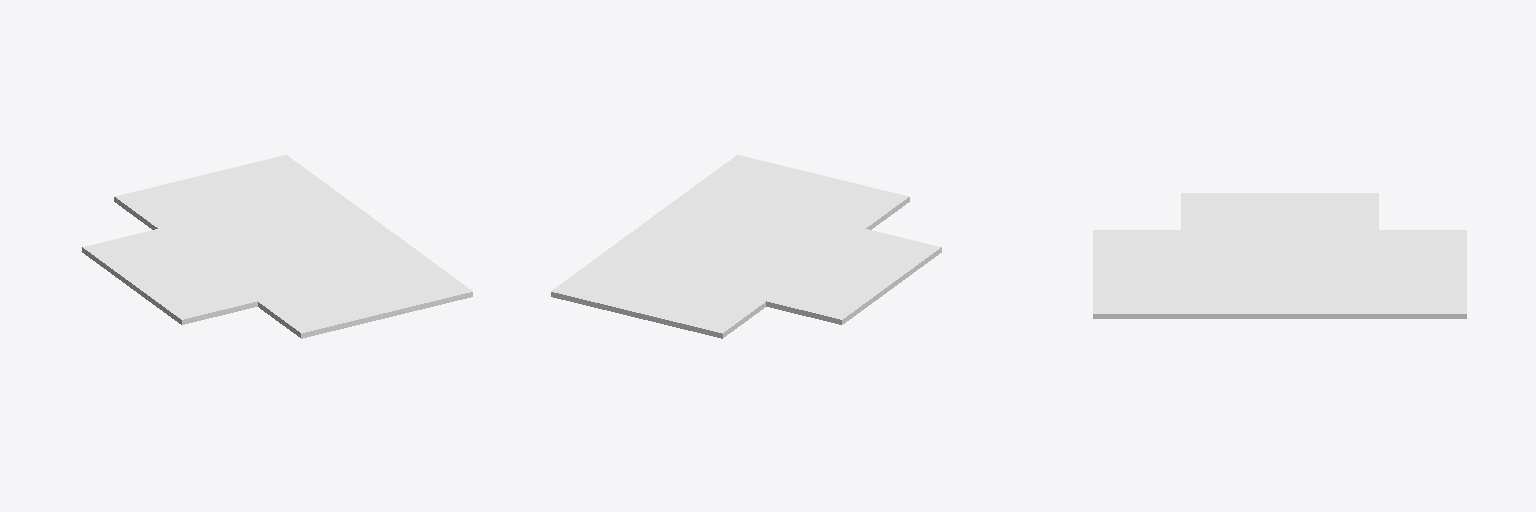
The model's file is plainroad_intersection_3.obj.
3 views of the same model, side by side, from view 1: azimuth 30°, elevation 25°; view 2: azimuth 150°, elevation 25°; view 3: azimuth 270°, elevation 25° (orthographic).
Visible parts, largest first — view 1: object 1; view 2: object 1; view 3: object 1.
Boxes of the visible parts, <box> form: object 1: <box>82,155,472,338</box>; object 1: <box>551,155,941,338</box>; object 1: <box>1093,193,1466,318</box>.
Bounding box in the file's own units: 4.9 × 0.1 × 6.4.